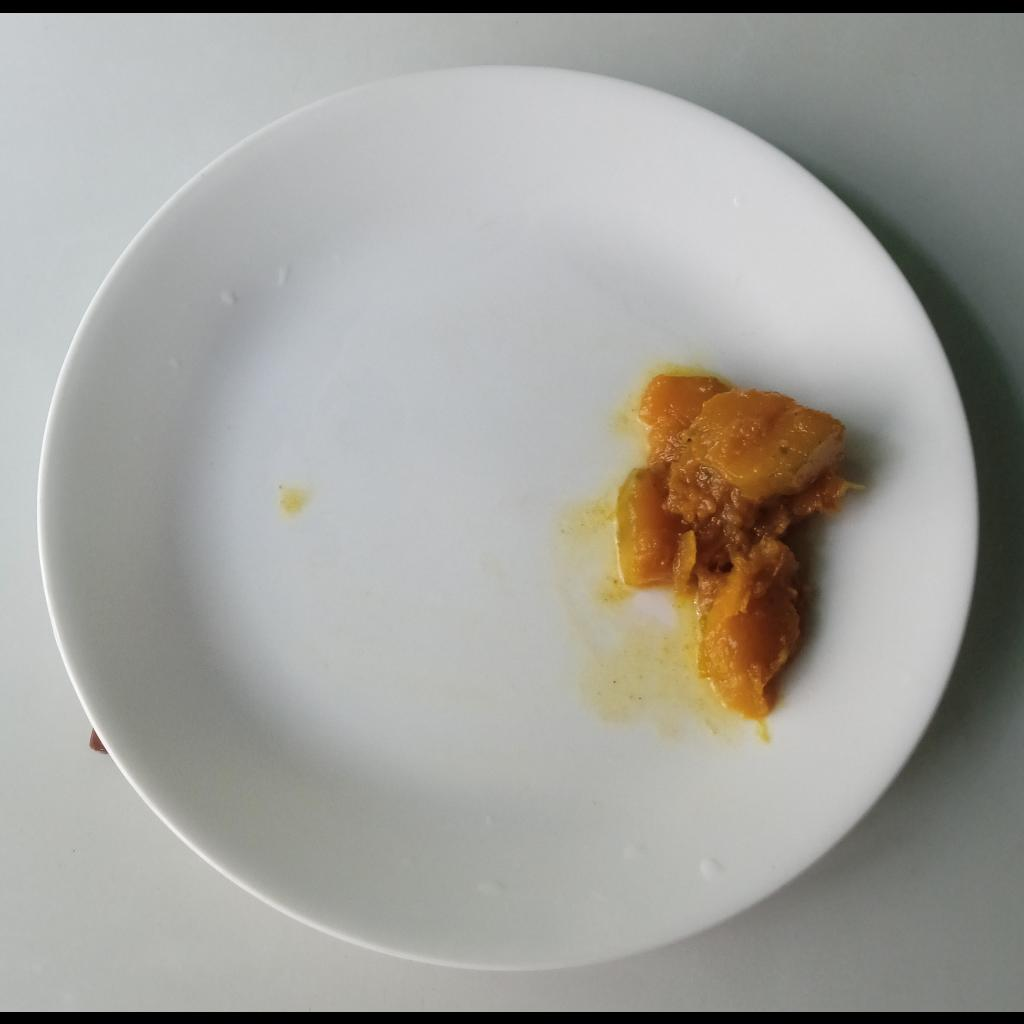kumra-vaji: (613, 375, 864, 712)
